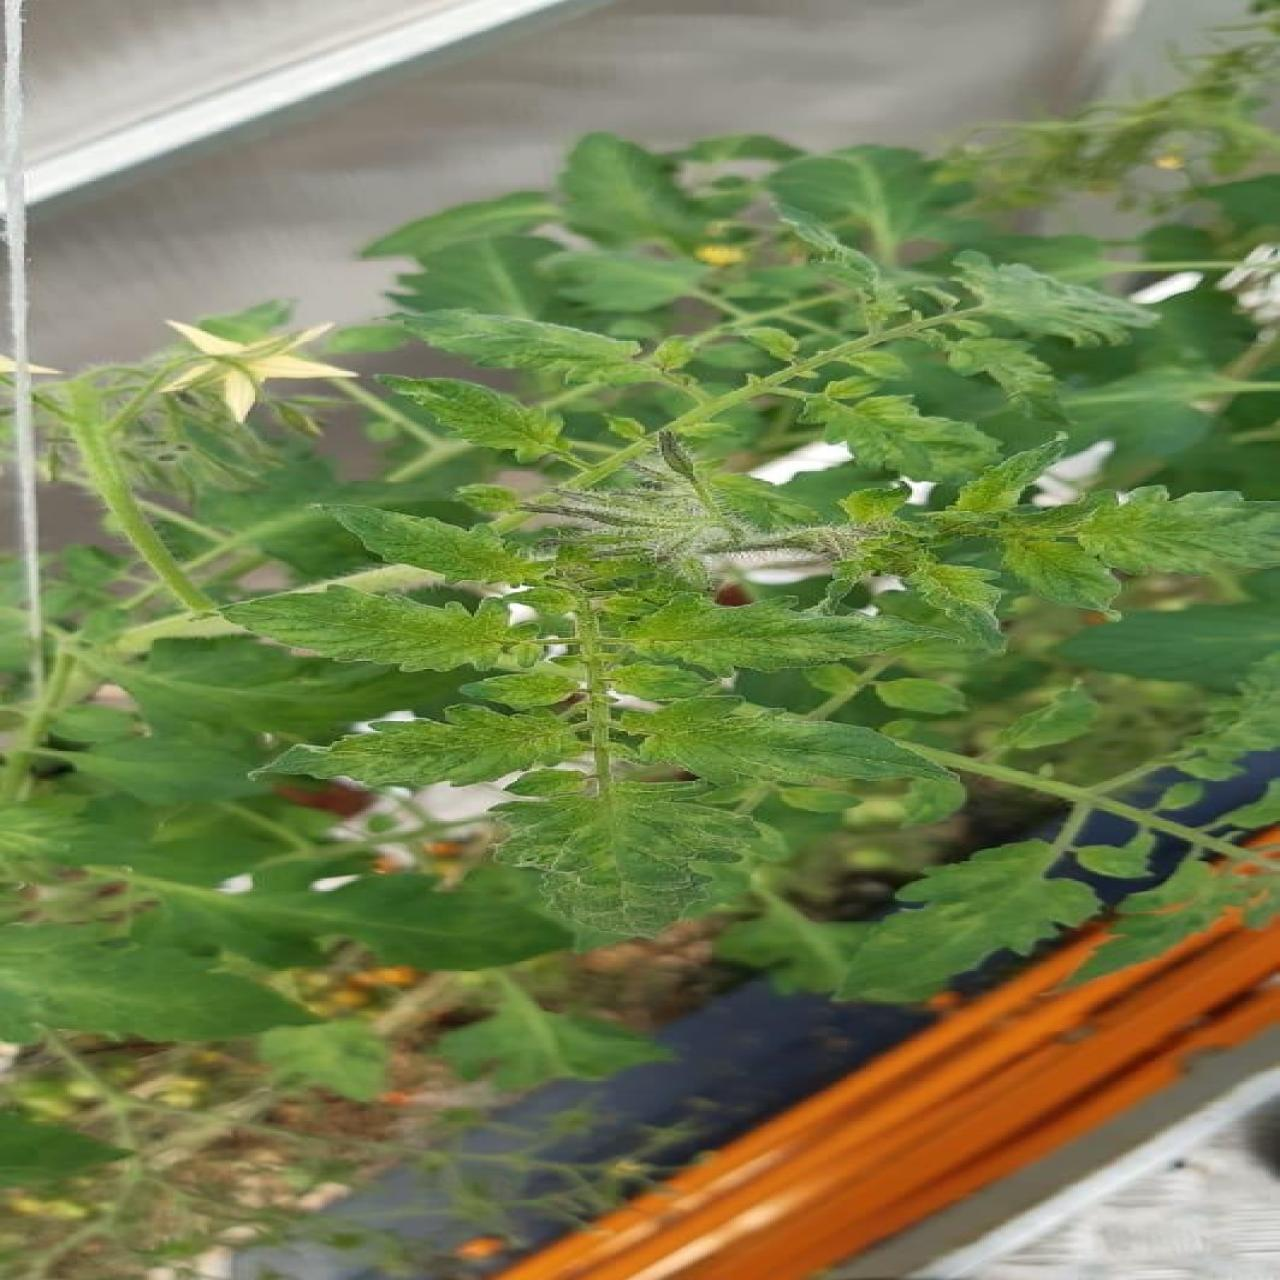T_L_R: (499, 784, 760, 939), (618, 699, 954, 785), (223, 586, 542, 670), (266, 706, 586, 787), (624, 595, 942, 672), (380, 376, 580, 465), (326, 508, 549, 583), (905, 561, 1003, 651)
